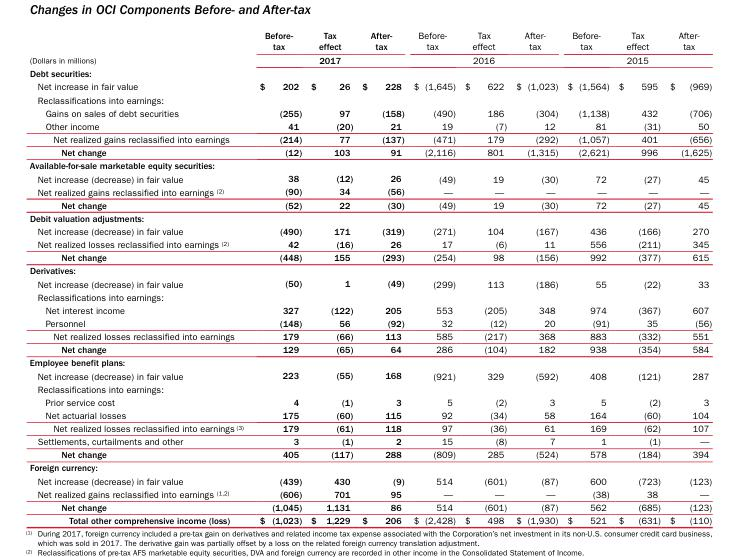table: (28, 29, 711, 525)
table column: (28, 29, 250, 525), (250, 29, 305, 525), (356, 29, 408, 525), (561, 29, 613, 525), (305, 29, 356, 525), (408, 29, 459, 525), (459, 29, 510, 525), (510, 29, 561, 525), (613, 29, 664, 525), (664, 29, 711, 525)
table column header: (28, 29, 711, 52)
table projected row header: (28, 66, 711, 79), (28, 92, 711, 105), (28, 158, 711, 171), (28, 211, 711, 224), (28, 263, 711, 276), (28, 290, 711, 303), (28, 355, 711, 368), (28, 382, 711, 395), (28, 460, 711, 473)
table row: (28, 29, 711, 52), (28, 52, 711, 66), (28, 105, 711, 119), (28, 197, 711, 211), (28, 276, 711, 290), (28, 368, 711, 382), (28, 473, 711, 487), (28, 66, 711, 79), (28, 79, 711, 92), (28, 92, 711, 105), (28, 119, 711, 132), (28, 132, 711, 145), (28, 145, 711, 158), (28, 158, 711, 171), (28, 171, 711, 184), (28, 184, 711, 197), (28, 211, 711, 224), (28, 224, 711, 237), (28, 237, 711, 250), (28, 250, 711, 263), (28, 263, 711, 276), (28, 290, 711, 303), (28, 303, 711, 316), (28, 316, 711, 329), (28, 329, 711, 342), (28, 342, 711, 355), (28, 355, 711, 368), (28, 382, 711, 395), (28, 395, 711, 408), (28, 408, 711, 421), (28, 421, 711, 434), (28, 434, 711, 447), (28, 447, 711, 460), (28, 460, 711, 473), (28, 487, 711, 500), (28, 500, 711, 513), (28, 513, 711, 525)
table spanning cell: (250, 52, 408, 66), (408, 52, 561, 66), (561, 52, 711, 66)
